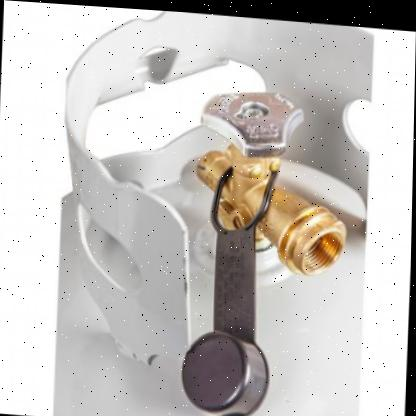gas-tank: (40, 2, 395, 415)
